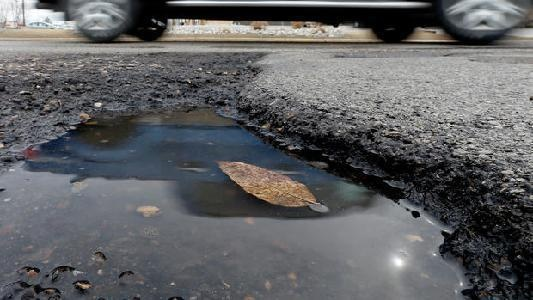pothole: (0, 49, 530, 299)
